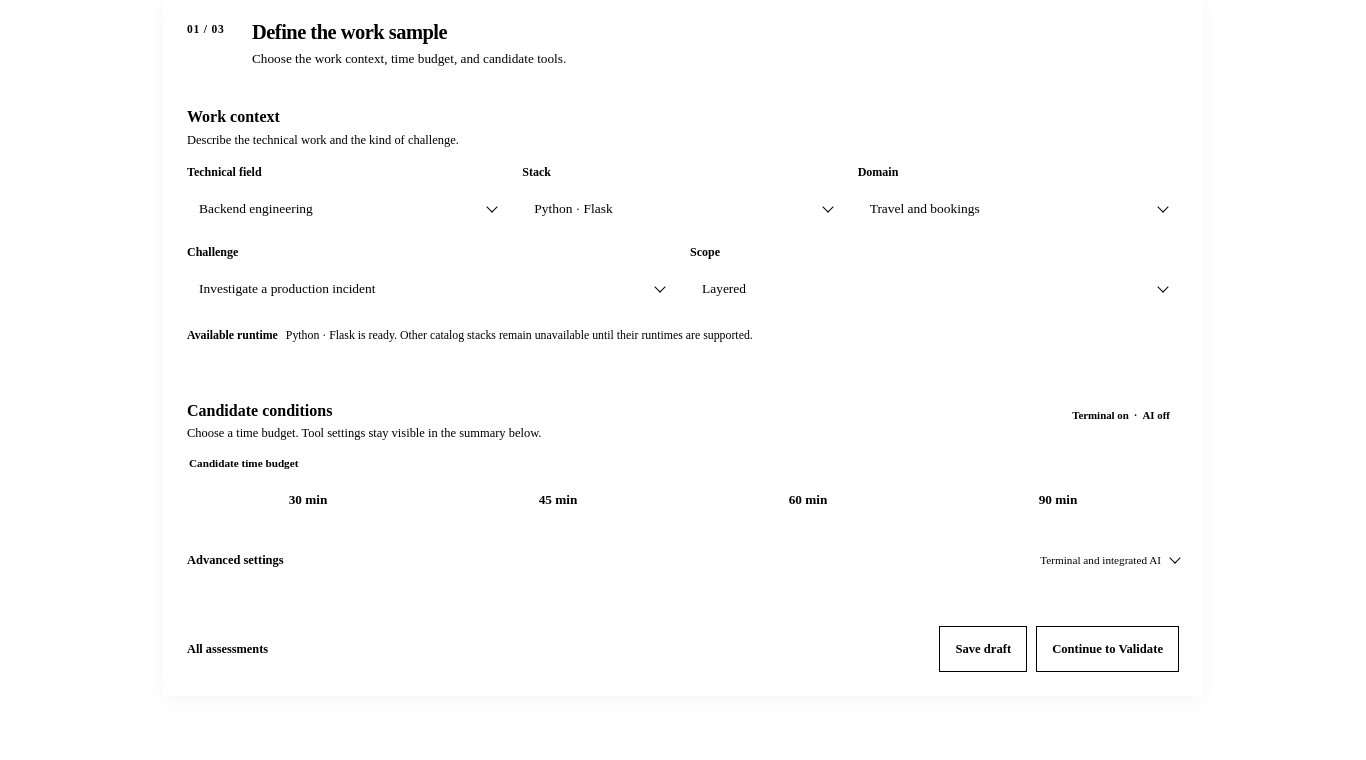
Test: assessment builder › classifies a missing authored scenario as unavailable rather than a provider outage
(page scrolled)
Click the button "Continue to Validate": (1108, 650) [1036, 626, 1179, 672]
(page scrolled)
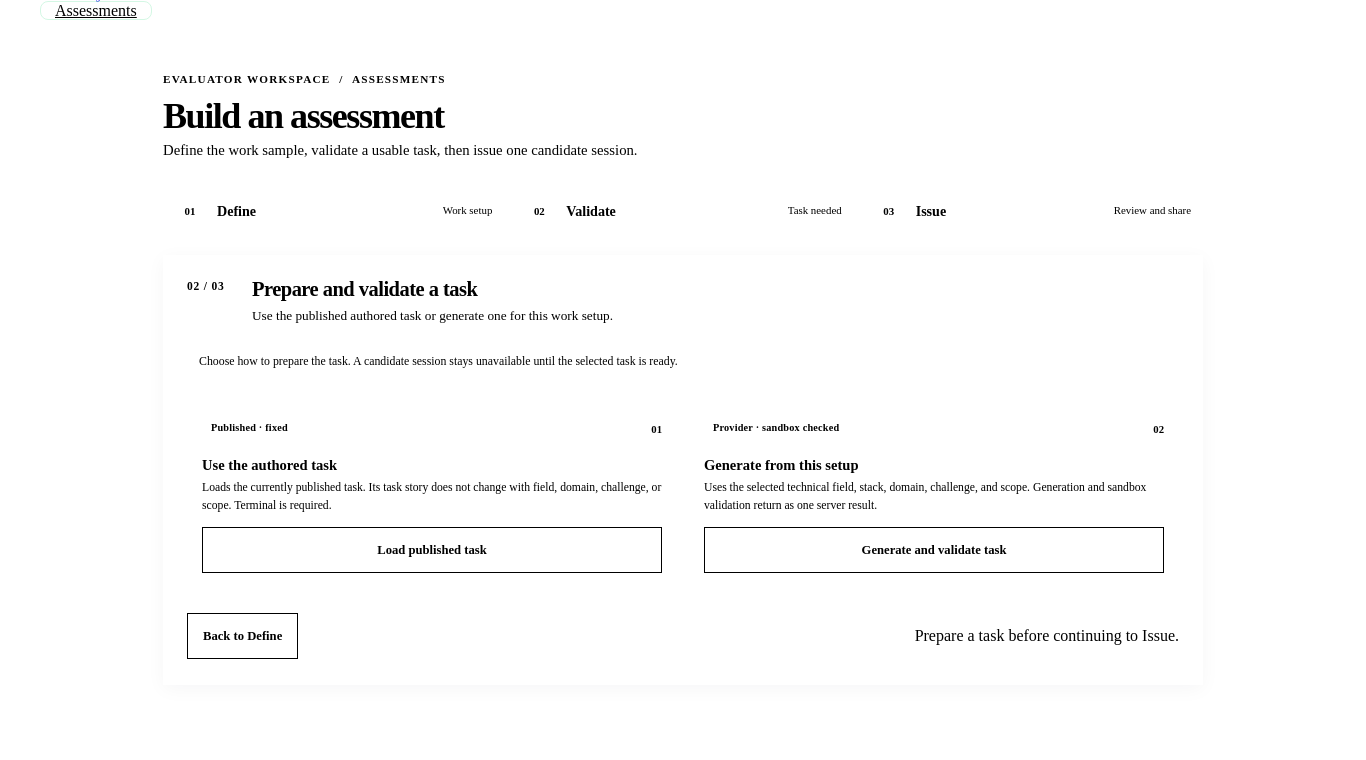
Click the button "Load published task": (432, 550) [202, 527, 662, 573]
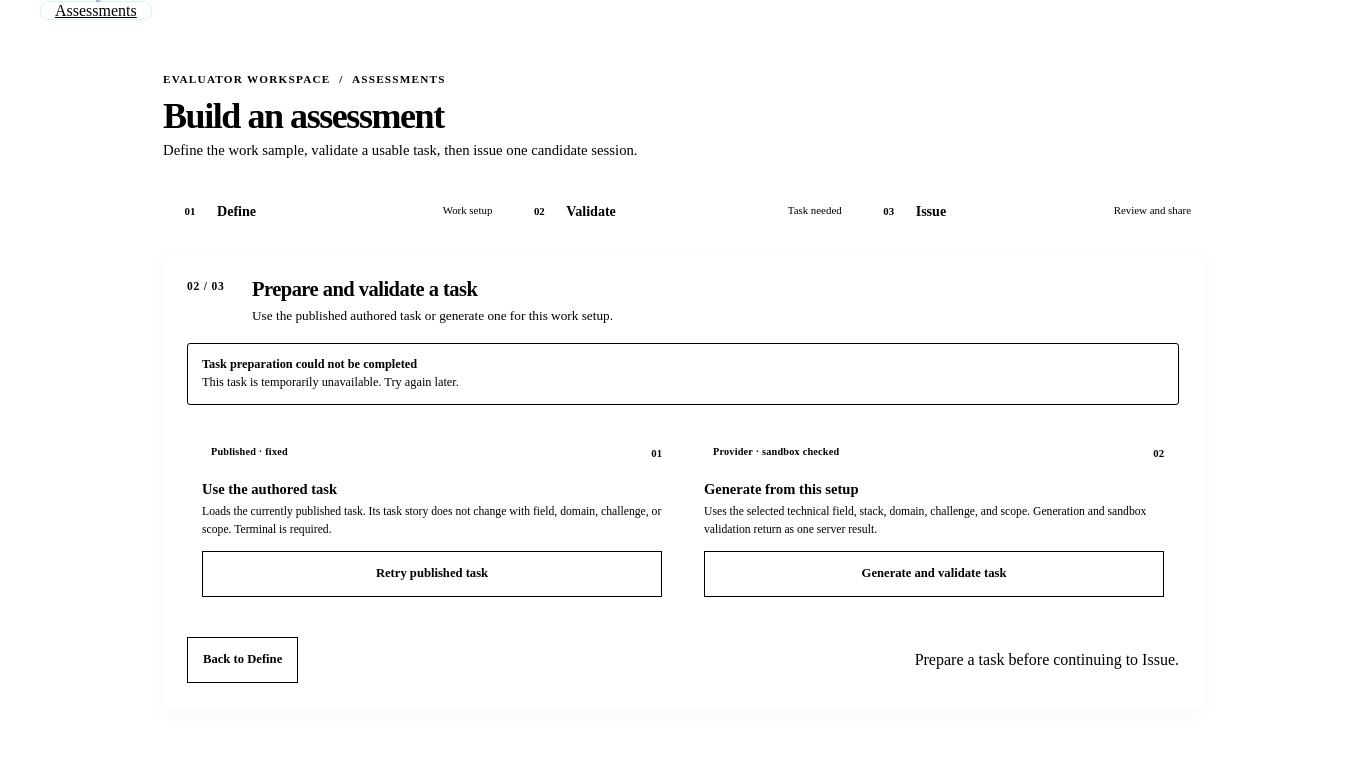
expect the button "Retry published task" is enabled: met, box [202, 551, 662, 597]
expect the text "Task preparation could not be completed" is shown: met, box [202, 357, 417, 371]
expect the text "This task is temporarily unavailable." is shown: met, box [202, 375, 459, 389]
